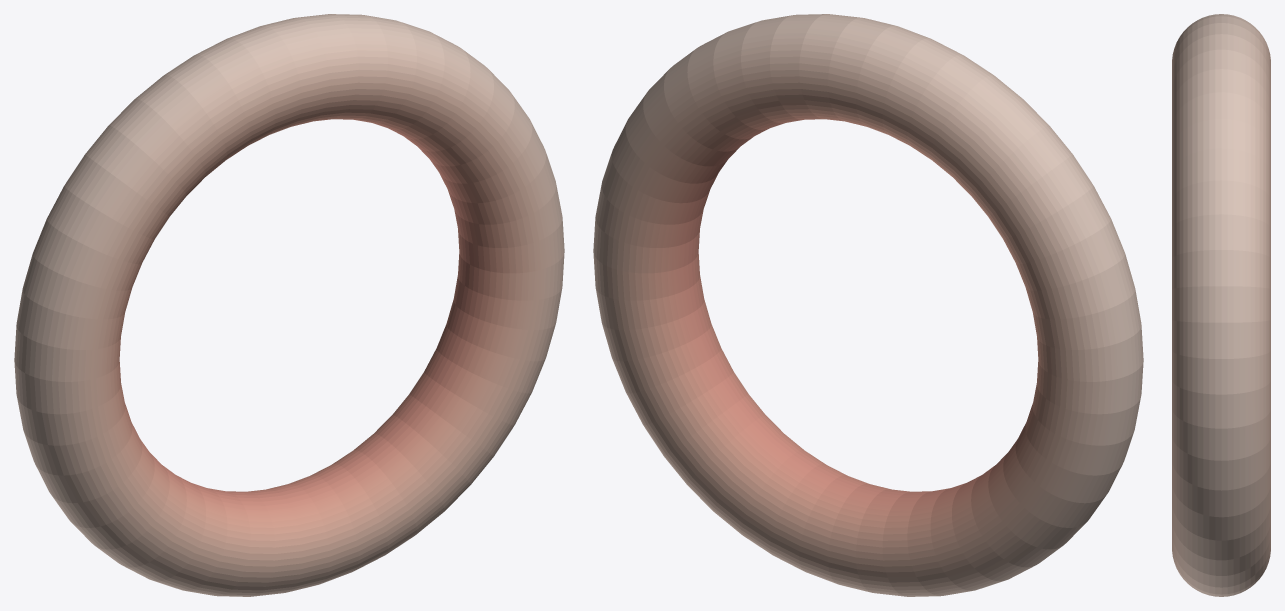
3 renders of one model, left to right at view 1: azimuth 30°, elevation 25°; view 2: azimuth 150°, elevation 25°; view 3: azimuth 270°, elevation 25°, orthographic. The views are drawn at different scales.
Parts seen in each view (by area): view 1: world; view 2: world; view 3: world.
Part boxes in pixels (x1,y1,x2,y2): world: (14,14,564,596); world: (593,14,1143,596); world: (1172,14,1270,596).
Size of the model in its own units: 32.13 by 32.07 by 5.46.
